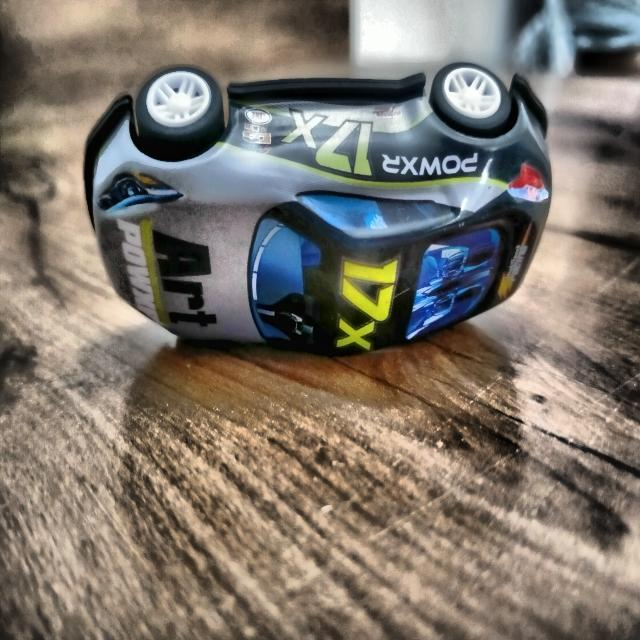Car: (81, 50, 576, 380)
